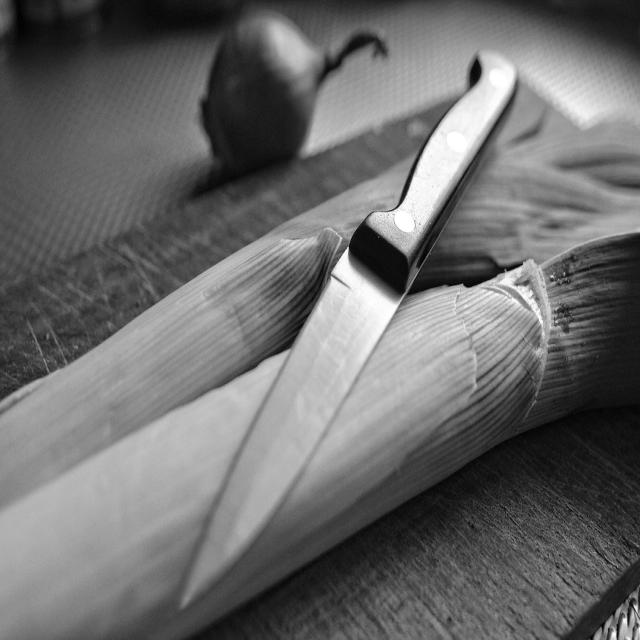Knife: (183, 52, 516, 606)
